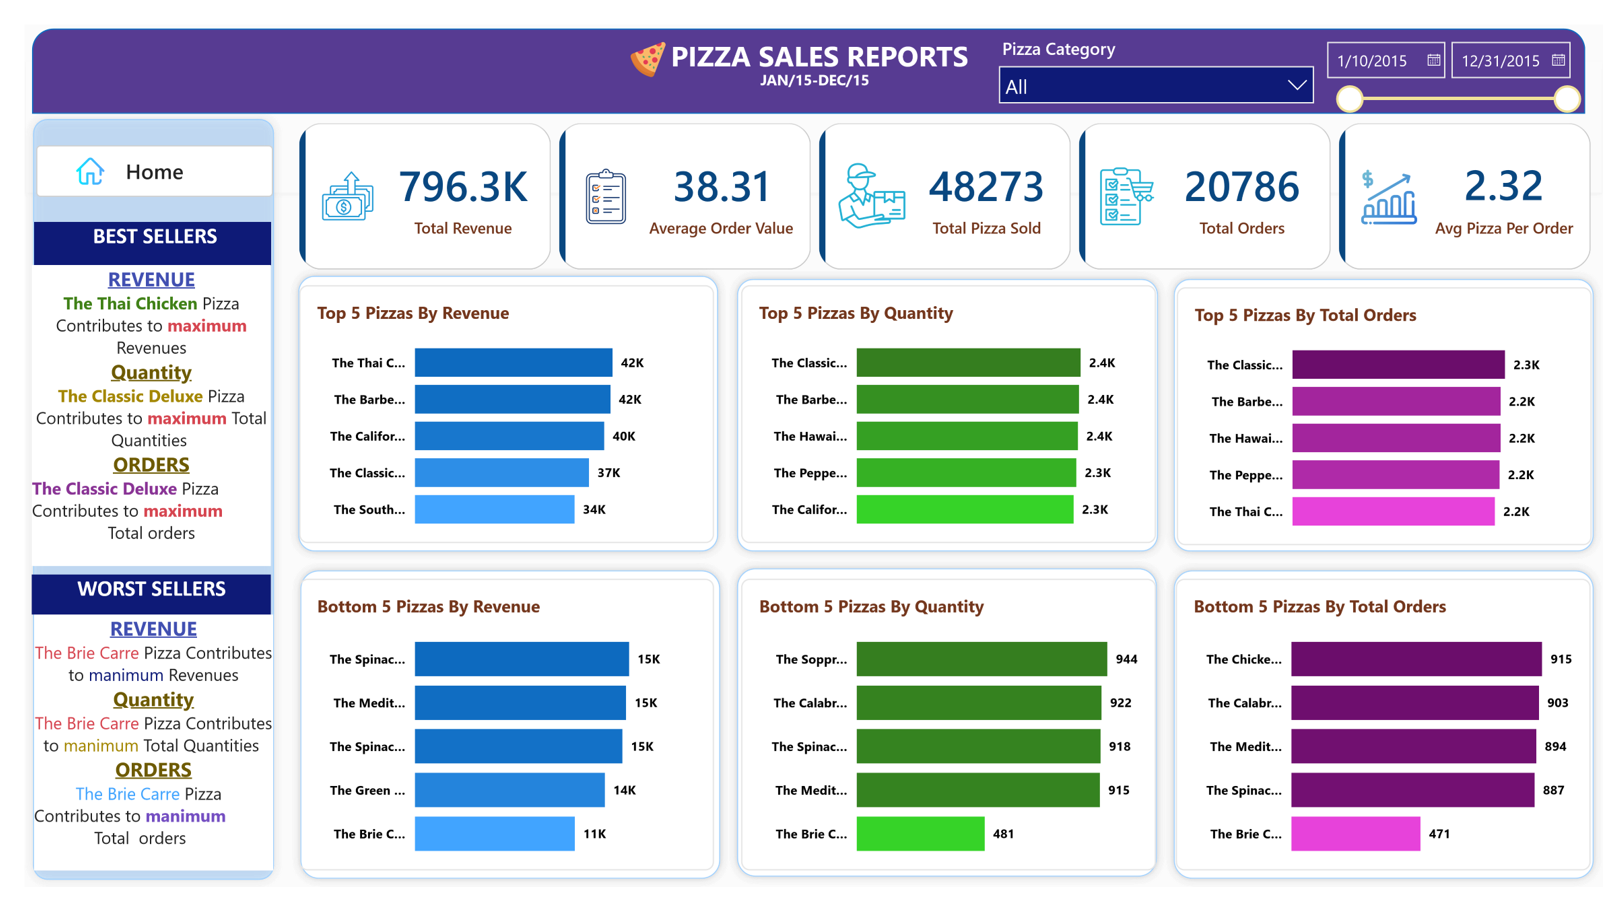

What the dashboard file says about the page in this screenshot:
{"tool":"powerbi","page":{"name":"Best/Worst Sellers","canvas":[1500,820],"ordinal":1},"visuals":[{"type":"cardVisual","fields":{"Data":["public pizza_sales.Total_Revenue","public pizza_sales.Average_Order_Value","public pizza_sales.Total_Pizza_Sold","public pizza_sales.Total_Orders","public pizza_sales.Average_Pizza_Per_Order"]},"box":[260.9,94.2,1228.2,139.5],"z":0},{"type":"shape","box":[7.1,3.5,1476.3,81.6],"z":1000},{"type":"textbox","box":[608.7,10.9,293.5,39.9],"z":2000},{"type":"textbox","box":[693.8,43.5,114.1,21.7],"z":3000},{"type":"image","box":[563.4,16.3,58,34.4],"z":4000},{"type":"shape","box":[252,230.7,415.2,278.6],"z":5000},{"type":"shape","box":[0,81.6,244.7,739],"z":6000},{"type":"textbox","box":[8.9,188.1,225.4,40.8],"z":7000},{"type":"textbox","box":[7.1,523.5,227.1,37.3],"z":8000},{"type":"slicer","fields":{"Values":["public pizza_sales.pizza_category"]},"box":[920.9,12.4,308.8,69.2],"z":9000},{"type":"slicer","fields":{"Values":["public pizza_sales.order_date"]},"box":[1229.7,12.4,252,78.1],"z":10000},{"type":"shape","box":[669,234.2,416,275],"z":11000},{"type":"shape","box":[1084.2,234.2,415.2,275],"z":12000},{"type":"shape","box":[253.7,511,415.2,308.8],"z":13000},{"type":"shape","box":[669,509.3,415.2,308.8],"z":14000},{"type":"shape","box":[1084.2,511,415.2,308.8],"z":15000},{"type":"barChart","title":"Top 5 Pizzas By Revenue","fields":{"Category":["public pizza_sales.pizza_name"],"Y":["public pizza_sales.Total_Revenue"]},"box":[260.8,248.4,393.9,244.9],"z":16000},{"type":"barChart","title":"Bottom 5 Pizzas By Revenue","fields":{"Category":["public pizza_sales.pizza_name"],"Y":["public pizza_sales.Total_Revenue"]},"box":[260.8,527,393.9,276.8],"z":17000},{"type":"barChart","title":"Top 5 Pizzas By Quantity","fields":{"Category":["public pizza_sales.pizza_name"],"Y":["public pizza_sales.Total_Pizza_Sold"]},"box":[681.4,248.4,393.9,244.9],"z":18000},{"type":"barChart","title":"Bottom 5 Pizzas By Quantity","fields":{"Category":["public pizza_sales.pizza_name"],"Y":["public pizza_sales.Total_Pizza_Sold"]},"box":[681.4,527,393.9,276.8],"z":19000},{"type":"barChart","title":"Top 5 Pizzas By Total Orders","fields":{"Category":["public pizza_sales.pizza_name"],"Y":["public pizza_sales.Total_Orders"]},"box":[1094.8,250.2,393.9,244.9],"z":20000},{"type":"barChart","title":"Bottom 5 Pizzas By Total Orders","fields":{"Category":["public pizza_sales.pizza_name"],"Y":["public pizza_sales.Total_Orders"]},"box":[1094,527.1,394.2,276.8],"z":21000},{"type":"textbox","box":[8.9,560.7,227.1,243.1],"z":22000},{"type":"textbox","box":[7.1,228.9,227.1,285.7],"z":23000},{"type":"pageNavigator","box":[10.6,115.3,225.4,49.7],"z":24000},{"type":"image","box":[48.9,110.5,27.2,58],"z":25000}]}

Visuals, with their boxes in screenshot pixels (x1, y1, x2, y2), scaled from the page's 1500x820 canvas onto the 1624x910 screenshot:
cardVisual - public pizza_sales.Total_Revenue x public pizza_sales.Average_Order_Value: x1=282 y1=105 x2=1612 y2=259
shape: x1=8 y1=4 x2=1606 y2=94
textbox: x1=659 y1=12 x2=977 y2=56
textbox: x1=751 y1=48 x2=875 y2=72
image: x1=610 y1=18 x2=673 y2=56
shape: x1=273 y1=256 x2=722 y2=565
shape: x1=0 y1=91 x2=265 y2=909
textbox: x1=10 y1=209 x2=254 y2=254
textbox: x1=8 y1=581 x2=254 y2=622
slicer - public pizza_sales.pizza_category: x1=997 y1=14 x2=1331 y2=91
slicer - public pizza_sales.order_date: x1=1331 y1=14 x2=1604 y2=100
shape: x1=724 y1=260 x2=1175 y2=565
shape: x1=1174 y1=260 x2=1623 y2=565
shape: x1=275 y1=567 x2=724 y2=909
shape: x1=724 y1=565 x2=1174 y2=908
shape: x1=1174 y1=567 x2=1623 y2=909
"Top 5 Pizzas By Revenue" barChart: x1=282 y1=276 x2=709 y2=547
"Bottom 5 Pizzas By Revenue" barChart: x1=282 y1=585 x2=709 y2=892
"Top 5 Pizzas By Quantity" barChart: x1=738 y1=276 x2=1164 y2=547
"Bottom 5 Pizzas By Quantity" barChart: x1=738 y1=585 x2=1164 y2=892
"Top 5 Pizzas By Total Orders" barChart: x1=1185 y1=278 x2=1612 y2=549
"Bottom 5 Pizzas By Total Orders" barChart: x1=1184 y1=585 x2=1611 y2=892
textbox: x1=10 y1=622 x2=256 y2=892
textbox: x1=8 y1=254 x2=254 y2=571
pageNavigator: x1=11 y1=128 x2=256 y2=183
image: x1=53 y1=123 x2=82 y2=187
